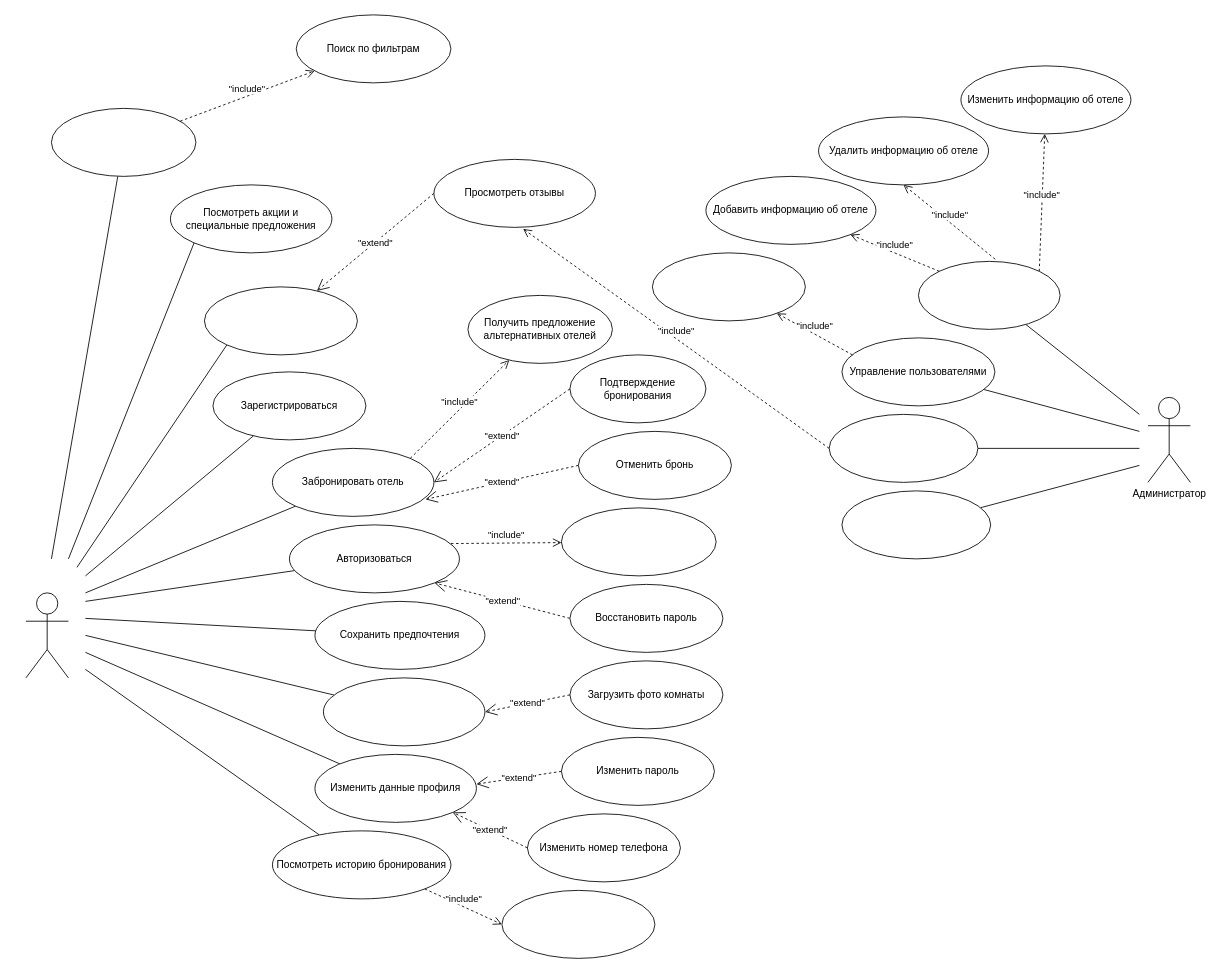
Image size: 1221x973. Some labels were removed from this diagram. Here are the shapes that lost their labels. From the top down, the box of each, then its label:
(51, 108, 196, 176): Найти отель
(652, 252, 805, 321): Блокировка пользователя
(918, 261, 1060, 329): Управление отелями
(204, 286, 357, 355): Просмотреть информацию об отеле
(828, 414, 978, 482): Модерация отзывов
(561, 507, 716, 576): Проверить учетные данные пользователя
(841, 490, 991, 559): Создание акций и спецпредложений
(25, 592, 68, 678): пользователь
(323, 677, 485, 746): Оставить отзыв
(501, 890, 655, 958): Посмотреть историю за определенный период
